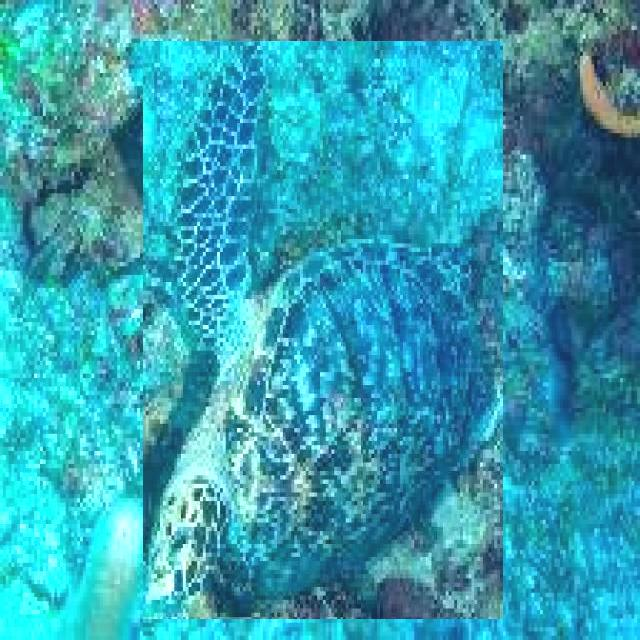Sea turtle: (143, 41, 503, 619)
